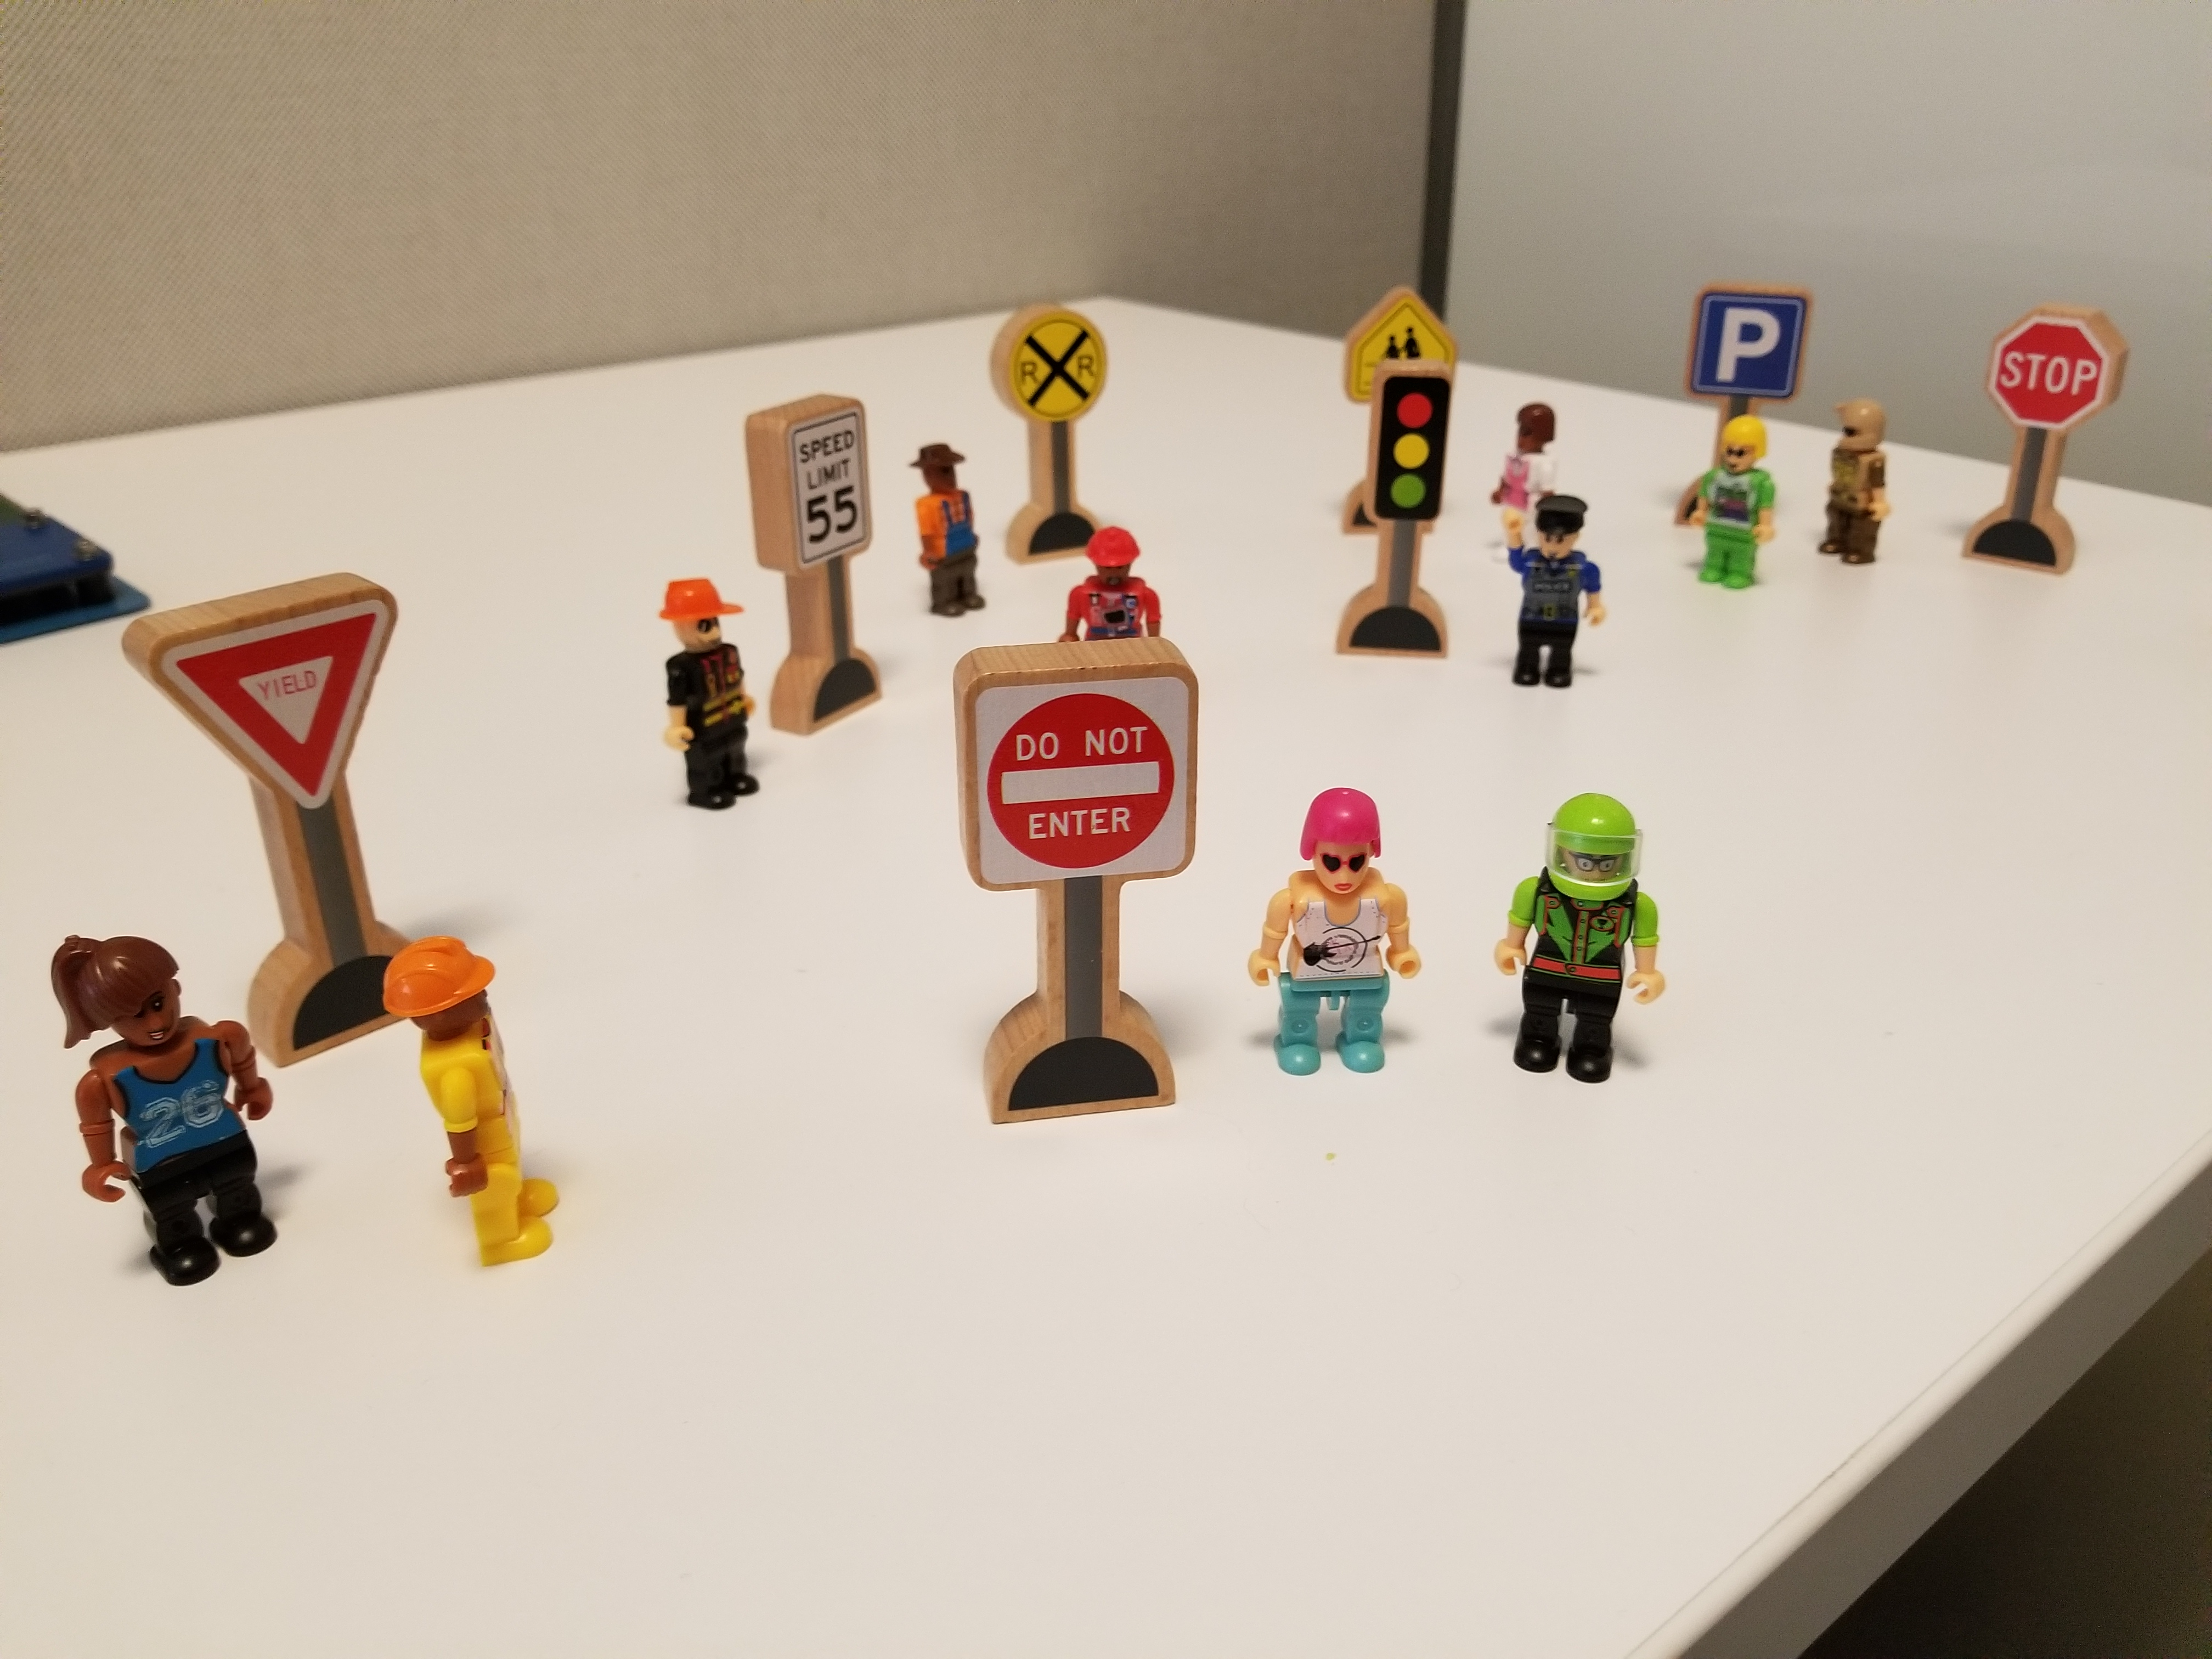Do not enter: (925, 620, 1241, 1155)
Parking: (1664, 282, 1833, 418)
Railroad Crossing: (967, 304, 1153, 460)
Speed limit 55: (736, 381, 901, 749)
Stop: (1983, 302, 2125, 618)
Traffic Light: (1355, 365, 1480, 695)
Yield: (95, 583, 418, 883)
person: (30, 914, 328, 1305), (348, 923, 578, 1285), (1487, 776, 1700, 1129), (1267, 780, 1447, 1125), (631, 563, 795, 806), (1496, 482, 1632, 701), (1673, 394, 1809, 613), (914, 429, 1015, 629), (1818, 398, 1901, 591), (1065, 521, 1184, 627), (1493, 385, 1566, 495)
